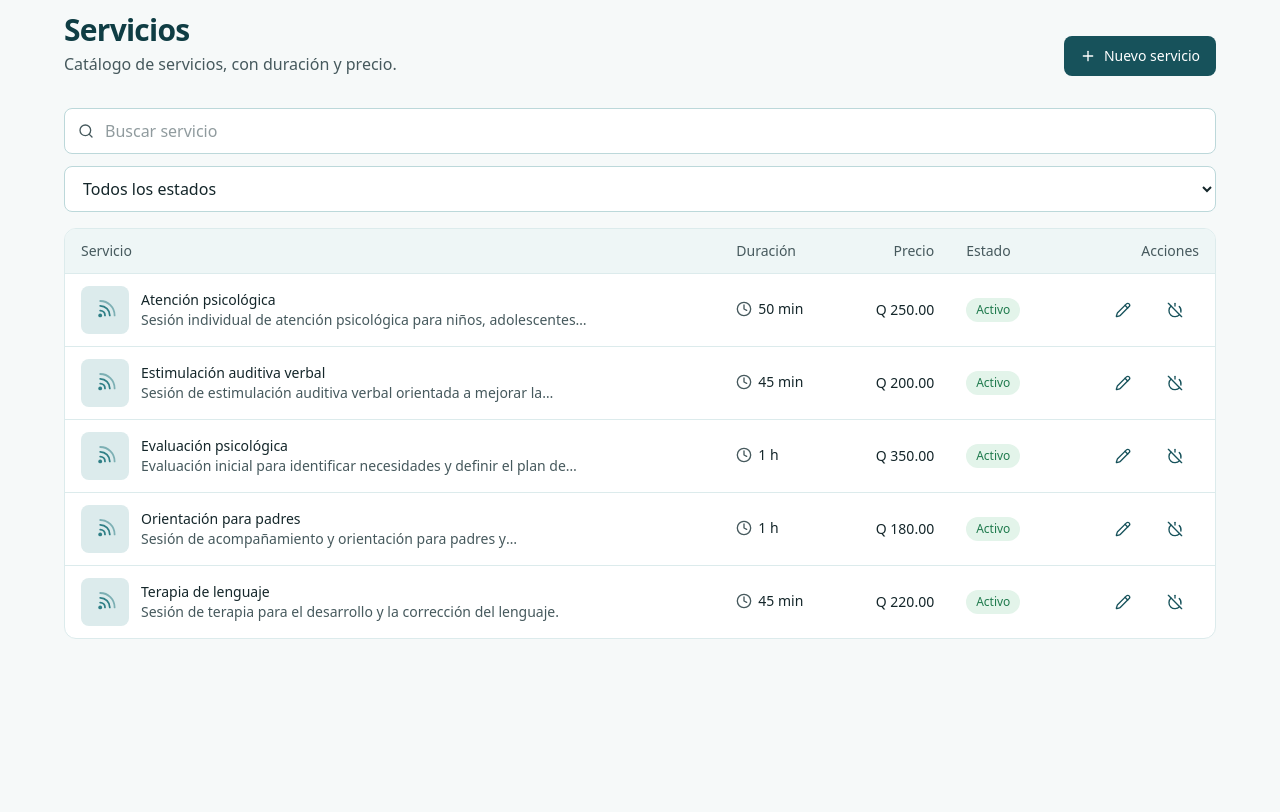
it: Servicios (panel) › filtra por texto (sin tildes) y por estado
Expected: the text "Atención psicológica" is shown, [141,290,276,309]
Type "evaluacion" into the search field labelled "Buscar servicio".
click(640, 131); type("evaluacion")  # box [64,108,1216,154]
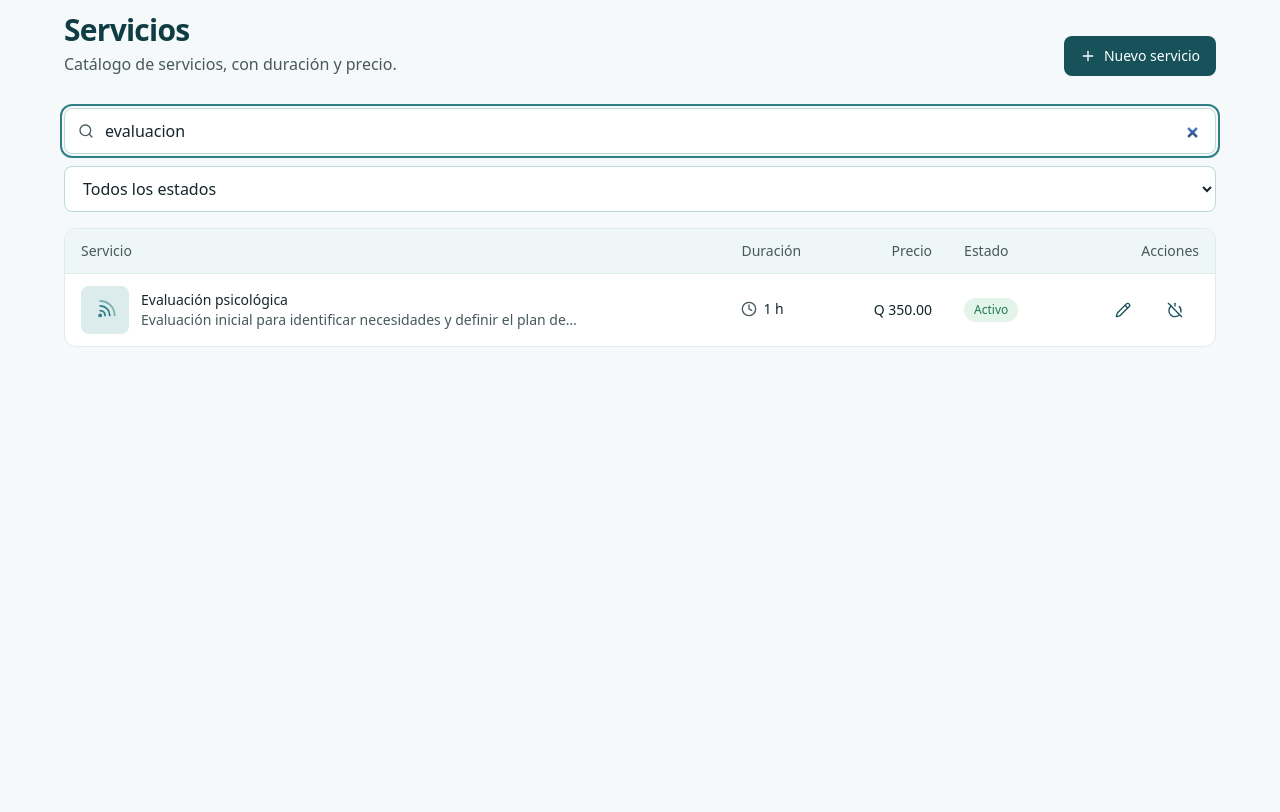
Expected: the number of rows is 2, [65,229,1215,274]; [65,274,1215,346]
Clear the search field named "Buscar servicio" at [640, 131], box [64,108,1216,154]
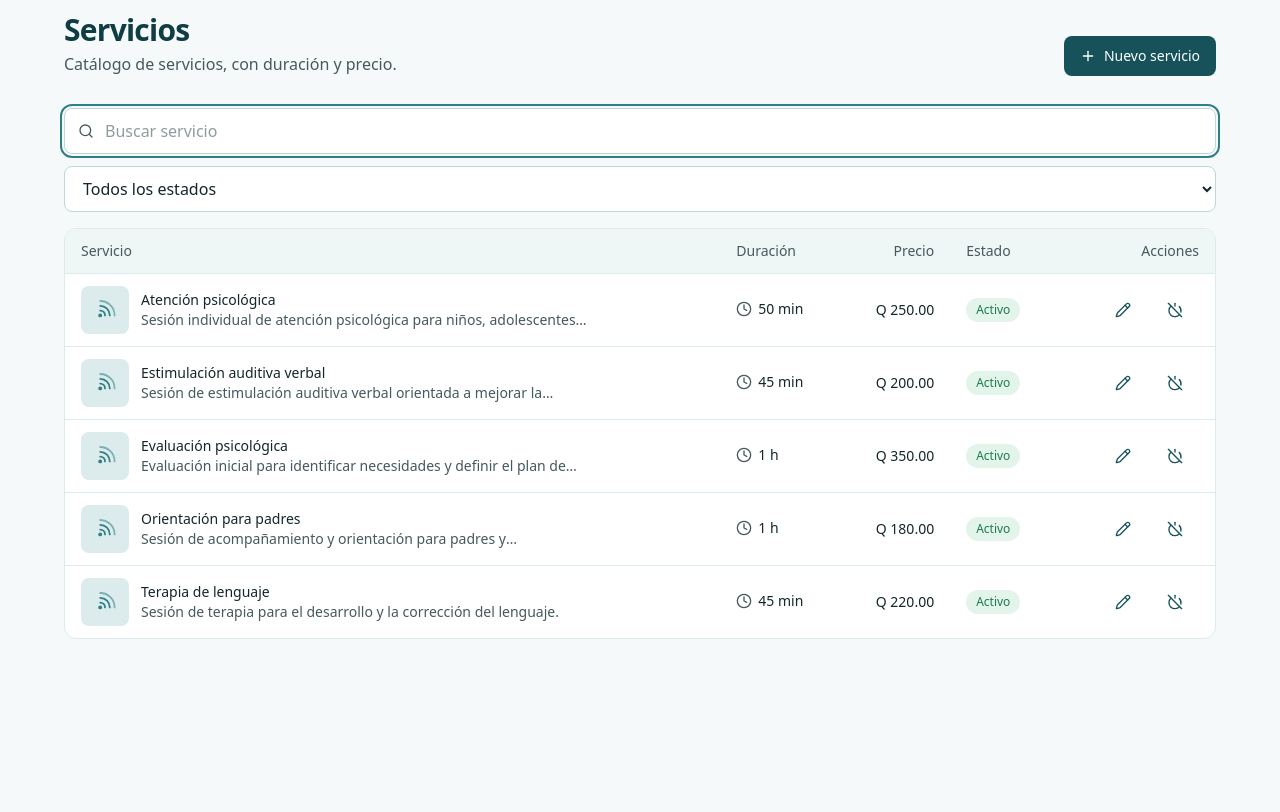
Select "Solo inactivos" in the dropdown named "Filtrar por estado" at [640, 189], box [64,166,1216,212]
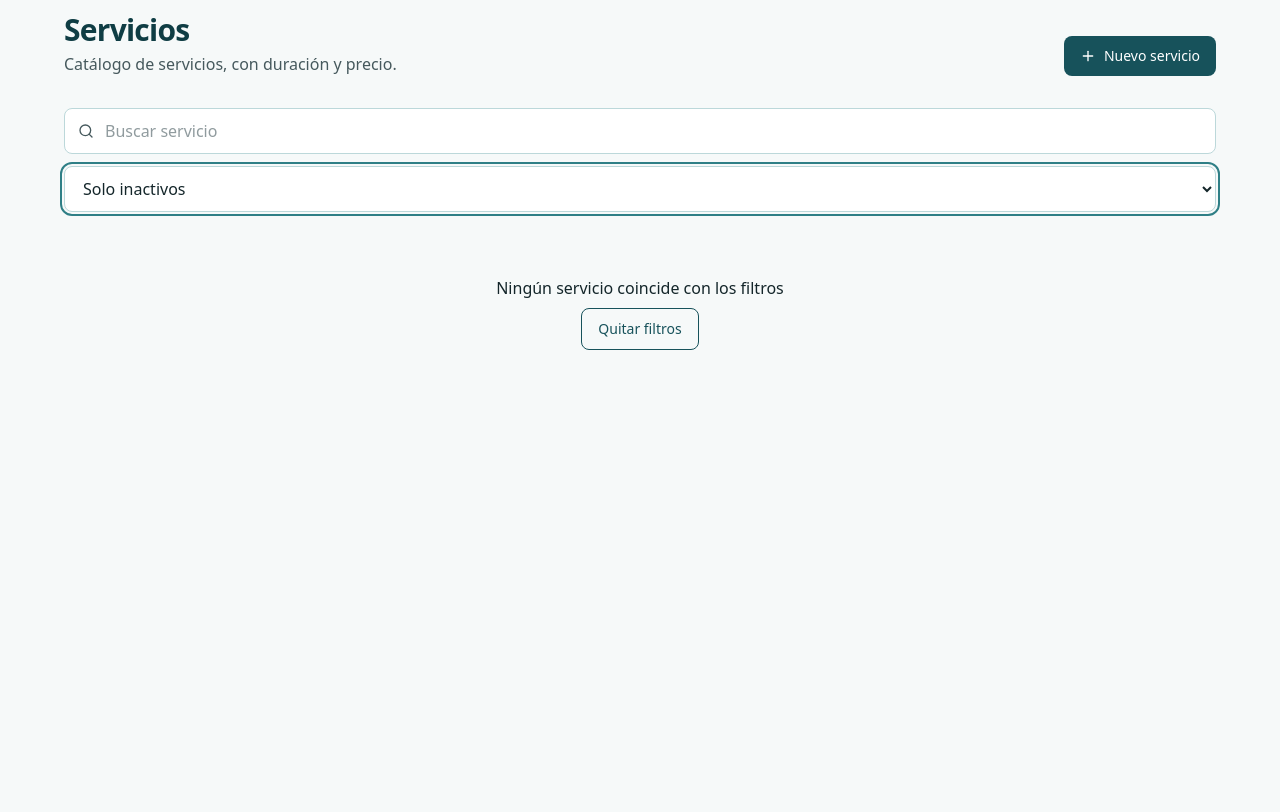
Expected: the text "Ningún servicio coincide con los filtros" is shown, [496,277,784,299]
